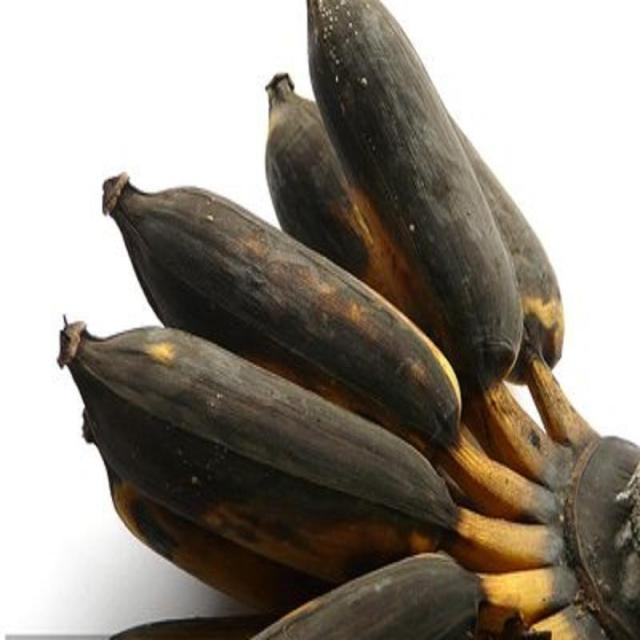organic: (8, 0, 640, 640)
